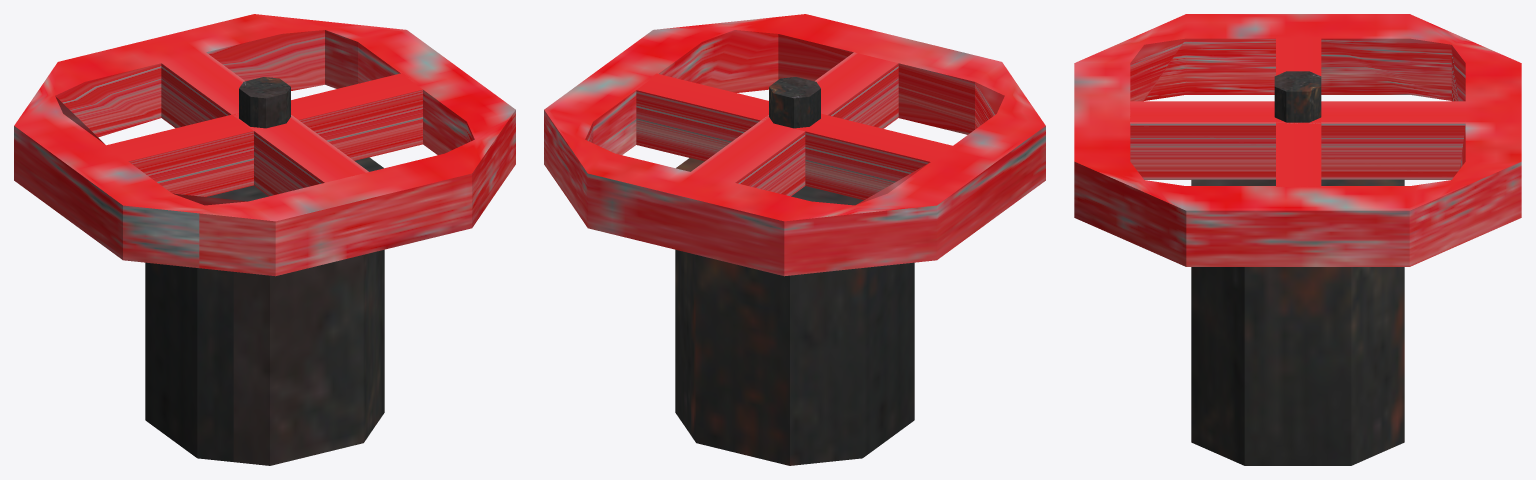
Rendered from valve.fbx.
3 views of the same model, side by side, from view 1: azimuth 30°, elevation 25°; view 2: azimuth 150°, elevation 25°; view 3: azimuth 270°, elevation 25° (orthographic). The views are drawn at different scales.
Visible parts, largest first — view 1: Cube.005, Cube.004, Cube.006; view 2: Cube.005, Cube.004, Cube.006; view 3: Cube.005, Cube.004, Cube.006.
Boxes of the visible parts, x1=… form: Cube.005: x1=14, y1=14, x2=515, y2=276; Cube.004: x1=145, y1=157, x2=384, y2=465; Cube.006: x1=239, y1=77, x2=290, y2=128; Cube.005: x1=544, y1=14, x2=1045, y2=276; Cube.004: x1=675, y1=158, x2=914, y2=465; Cube.006: x1=769, y1=77, x2=820, y2=128; Cube.005: x1=1074, y1=14, x2=1521, y2=266; Cube.004: x1=1191, y1=179, x2=1404, y2=465; Cube.006: x1=1274, y1=71, x2=1321, y2=122.
Bounding box in the file's own units: 0.5216 × 0.4172 × 0.5011.
